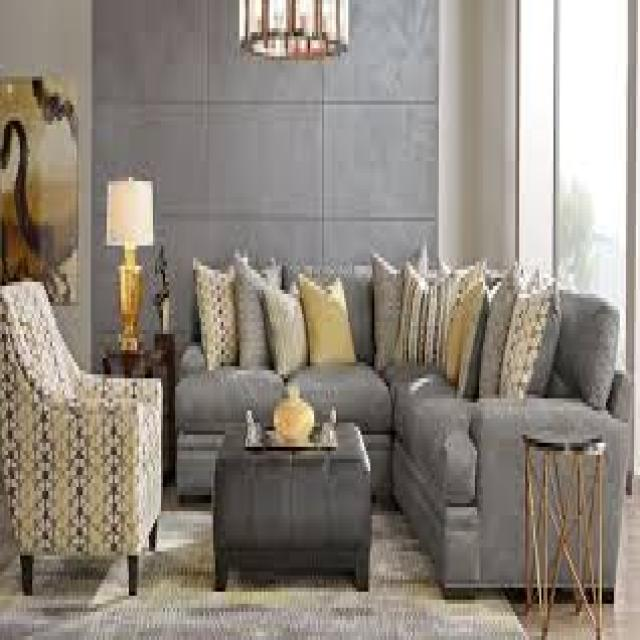Chair: (0, 261, 166, 588)
Lamp: (99, 156, 160, 342), (228, 5, 357, 76)
Sofa: (403, 222, 631, 630), (187, 246, 419, 512)
Table: (203, 418, 379, 602), (521, 422, 608, 638)
